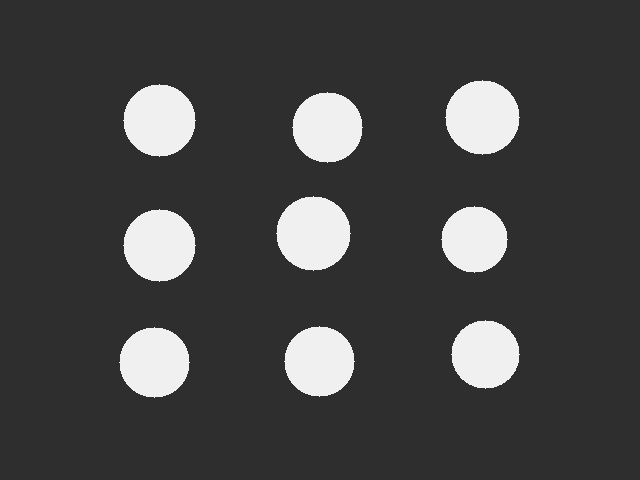hole: (445, 80, 519, 154), (276, 196, 350, 270), (123, 84, 195, 156), (123, 209, 195, 281), (292, 92, 362, 162), (119, 327, 189, 397), (284, 326, 354, 396), (451, 320, 519, 388), (441, 206, 507, 272)
